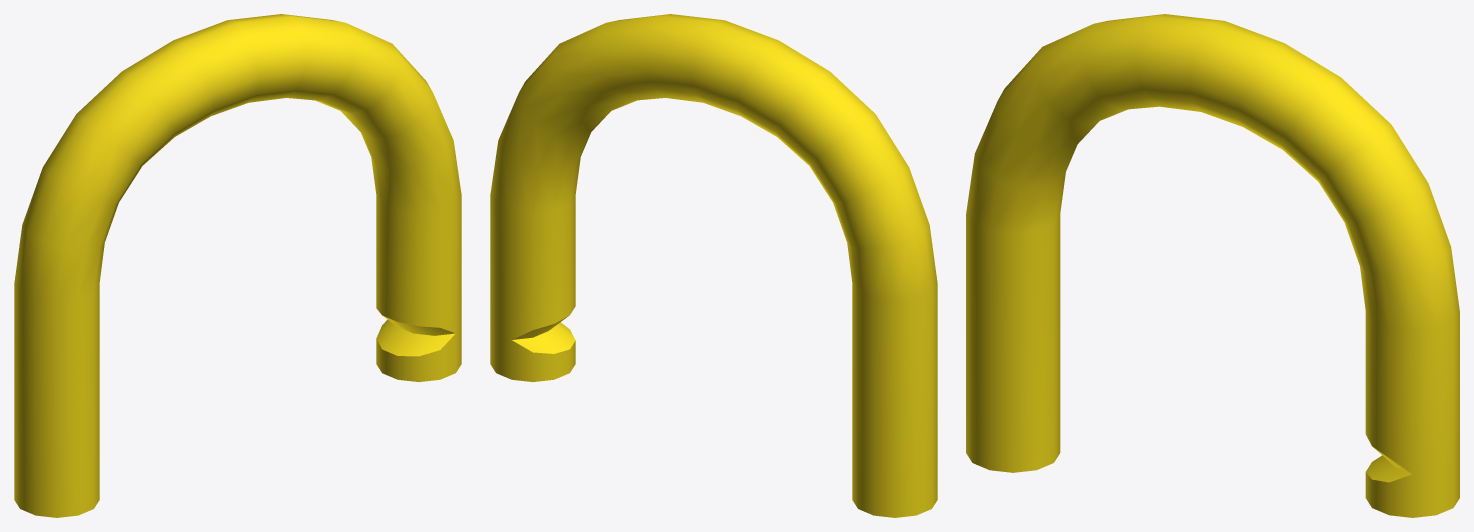
The model's file is lock_handle.glb.
3 renders of one model, left to right at view 1: azimuth 30°, elevation 25°; view 2: azimuth 150°, elevation 25°; view 3: azimuth 330°, elevation 25°, orthographic. The views are drawn at different scales.
Parts seen in each view (by area): view 1: Upper_part_LOD0; view 2: Upper_part_LOD0; view 3: Upper_part_LOD0.
Boxes of the visible parts, x1,y1,x2,y2 form: Upper_part_LOD0: [14, 14, 461, 517]; Upper_part_LOD0: [490, 14, 937, 517]; Upper_part_LOD0: [966, 14, 1459, 517].
Size of the model in its own units: 0.1016 by 0.0964 by 0.0172.
